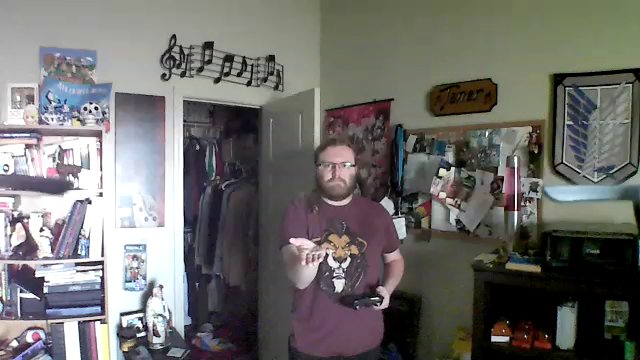land: (285, 231, 333, 266)
